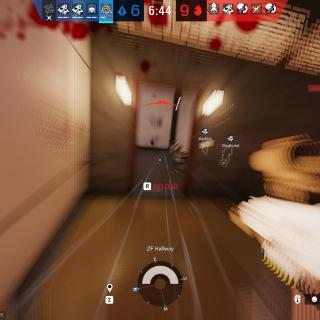Character: (165, 139, 188, 173)
Friend_label: (222, 134, 240, 148), (198, 127, 212, 141)
